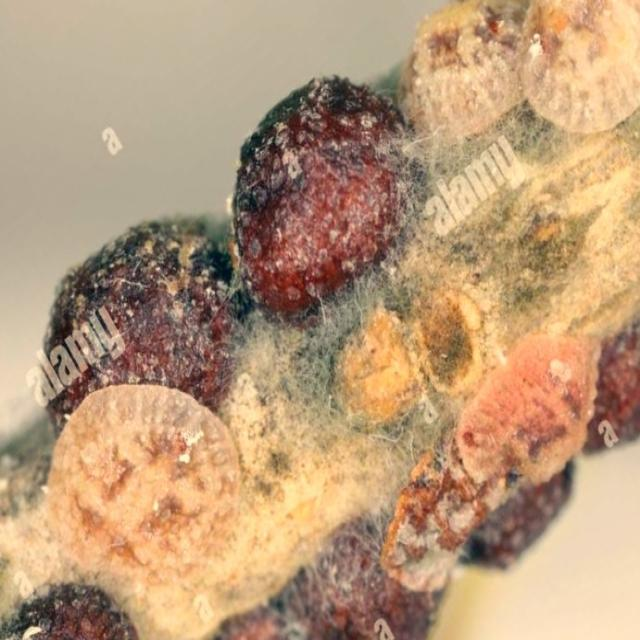Black Scale: (43, 218, 239, 583), (216, 460, 573, 639), (234, 76, 405, 312), (406, 0, 639, 137), (454, 333, 599, 482), (583, 319, 639, 453)
